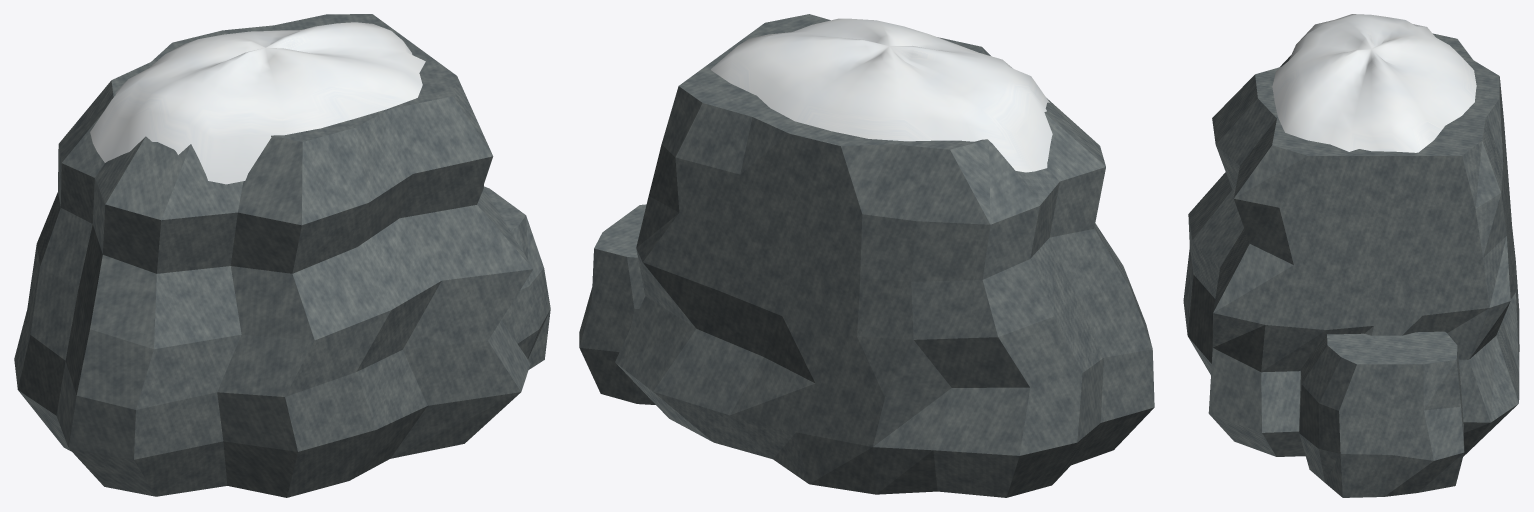
3 views of the same model, side by side, from view 1: azimuth 30°, elevation 25°; view 2: azimuth 150°, elevation 25°; view 3: azimuth 270°, elevation 25° (orthographic). The views are drawn at different scales.
Visible parts, largest first — view 1: Mesh_rock, Mesh_snow; view 2: Mesh_rock, Mesh_snow; view 3: Mesh_rock, Mesh_snow.
Boxes of the visible parts, box(x1,y1,x2,y2) form: Mesh_rock: box(14, 14, 550, 497); Mesh_snow: box(90, 22, 425, 184); Mesh_rock: box(579, 14, 1154, 497); Mesh_snow: box(711, 18, 1052, 172); Mesh_rock: box(1183, 33, 1519, 497); Mesh_snow: box(1272, 14, 1476, 152).
Size of the model in its own units: 1.66 by 1.19 by 1.06.
Materials: 2 (2 with a texture image).
